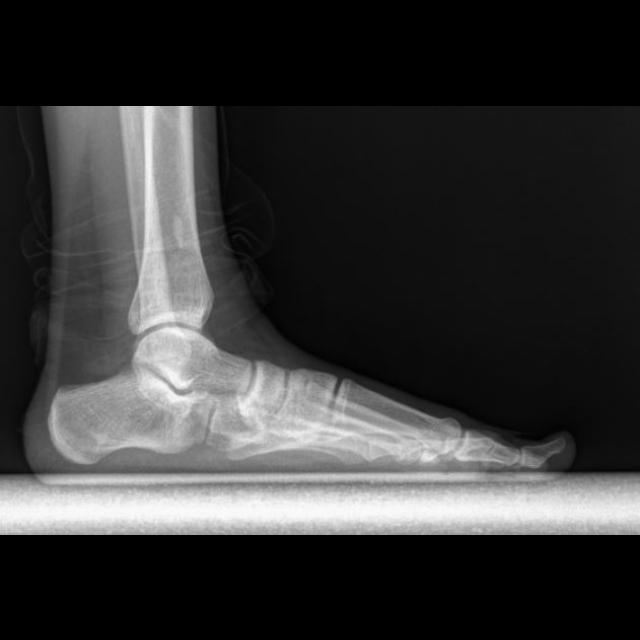a: (49, 370, 211, 462)
b: (239, 359, 286, 417)
c: (332, 379, 464, 467)
